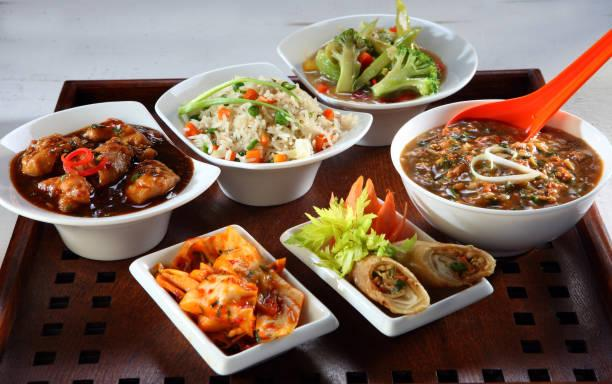Braised Crucian Carp: (392, 100, 612, 255), (0, 99, 216, 245), (127, 224, 333, 374), (153, 63, 364, 206), (282, 191, 493, 333), (278, 11, 474, 111)
